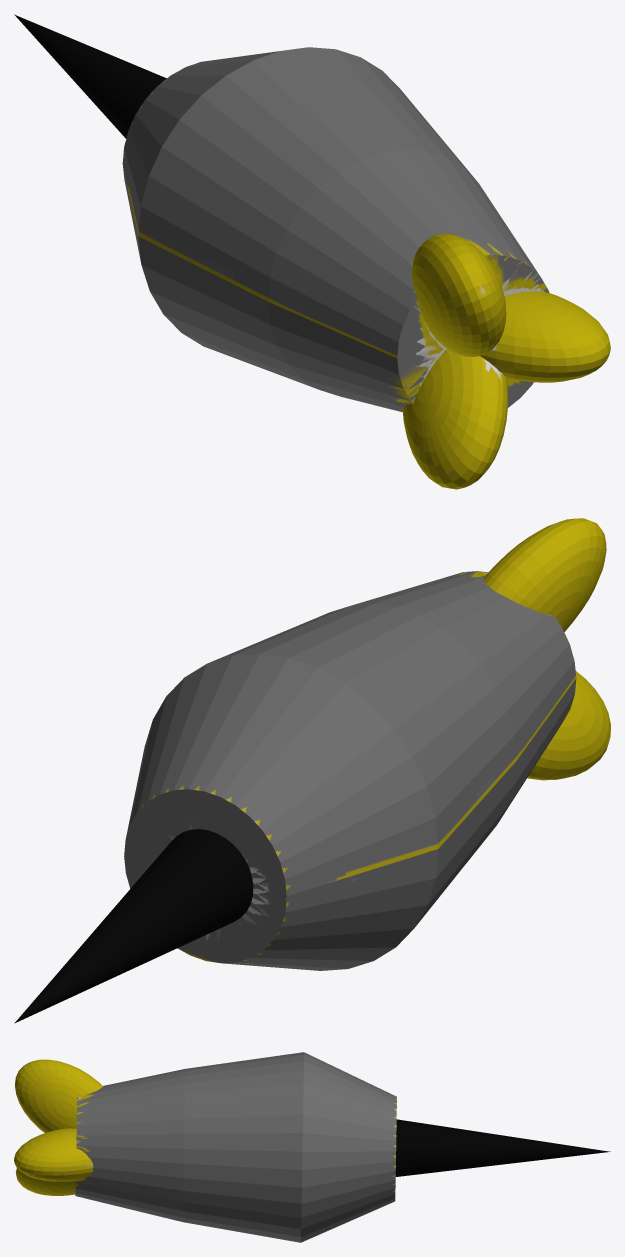
The model's file is dartman_dart.glb.
The picture shows the model from 3 angles, top to bottom: view 1: azimuth 30°, elevation 25°; view 2: azimuth 150°, elevation 25°; view 3: azimuth 270°, elevation 25°; orthographic projection. The views are drawn at different scales.
Visible parts, largest first — view 1: Sphere.003; view 2: Sphere.003; view 3: Sphere.003.
Part boxes in pixels (x1,y1,x2,y2): Sphere.003: (14,14,610,489); Sphere.003: (14,518,610,1023); Sphere.003: (14,1052,610,1242).
Bounding box in the file's own units: 3.64 × 3.64 × 11.38.
Materials: 1 (1 with a texture image).
